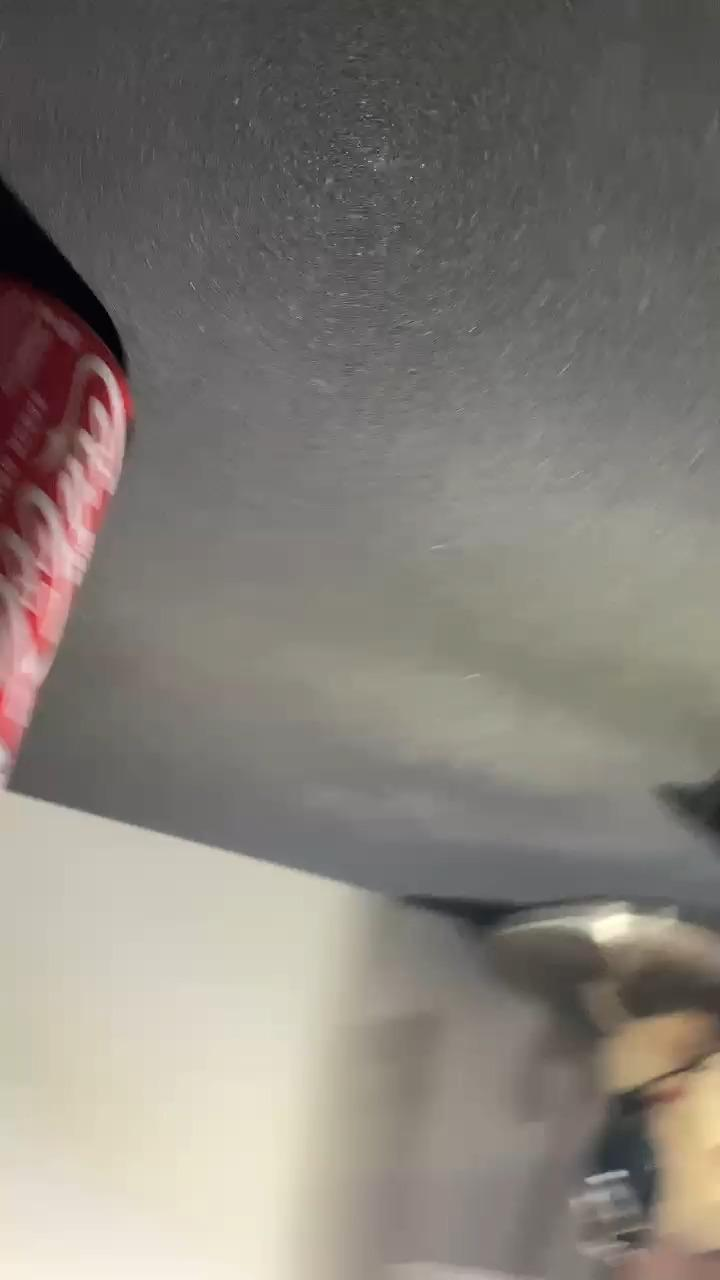coke: (0, 126, 133, 812)
